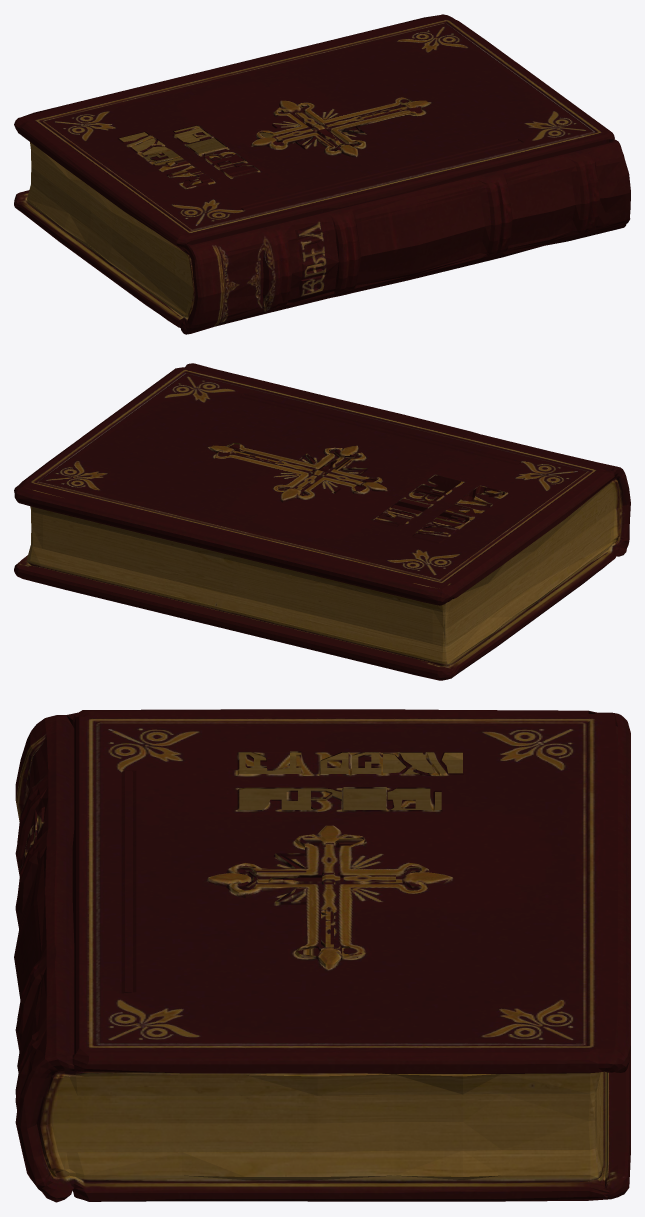
The model's file is Biblia.glb.
The picture shows the model from 3 angles, top to bottom: view 1: azimuth 30°, elevation 25°; view 2: azimuth 150°, elevation 25°; view 3: azimuth 270°, elevation 25°; orthographic projection. The views are drawn at different scales.
Visible parts, largest first — view 1: tripo_node_46bfb3b8-3b7f-4264-969f-695b50353d7c; view 2: tripo_node_46bfb3b8-3b7f-4264-969f-695b50353d7c; view 3: tripo_node_46bfb3b8-3b7f-4264-969f-695b50353d7c.
Part boxes in pixels (left/top/right/bottom): tripo_node_46bfb3b8-3b7f-4264-969f-695b50353d7c: left=14, top=14, right=630, bottom=334; tripo_node_46bfb3b8-3b7f-4264-969f-695b50353d7c: left=14, top=363, right=630, bottom=680; tripo_node_46bfb3b8-3b7f-4264-969f-695b50353d7c: left=14, top=709, right=630, bottom=1202.
Bounding box in the file's own units: 1.21 × 0.2548 × 0.8917.
1 material, 1 textured.
